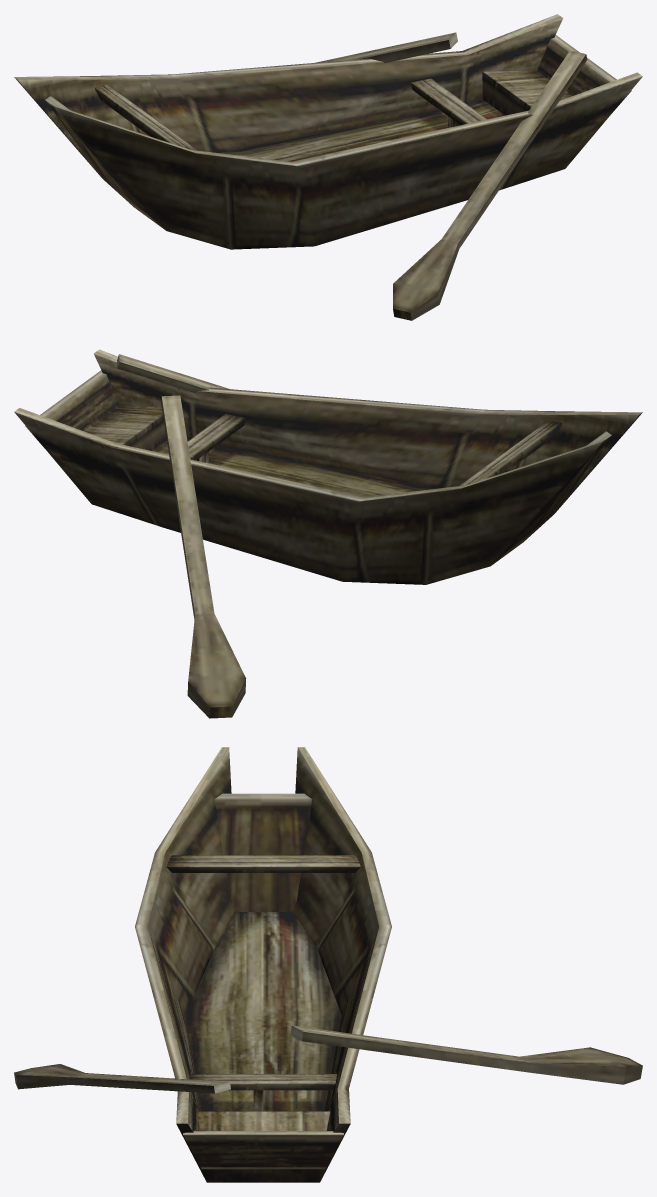
Rendered from general_obj_ferryboat01.fbx.
3 views of the same model, one above another, from view 1: azimuth 30°, elevation 25°; view 2: azimuth 150°, elevation 25°; view 3: azimuth 270°, elevation 25° (orthographic). The views are drawn at different scales.
Parts seen in each view (by area): view 1: Object10; view 2: Object10; view 3: Object10.
Part boxes in pixels (x1,y1,x2,y2): Object10: (14, 14, 642, 320); Object10: (14, 349, 642, 718); Object10: (14, 747, 642, 1182).
Size of the model in its own units: 5.3 by 1.9 by 4.99.
